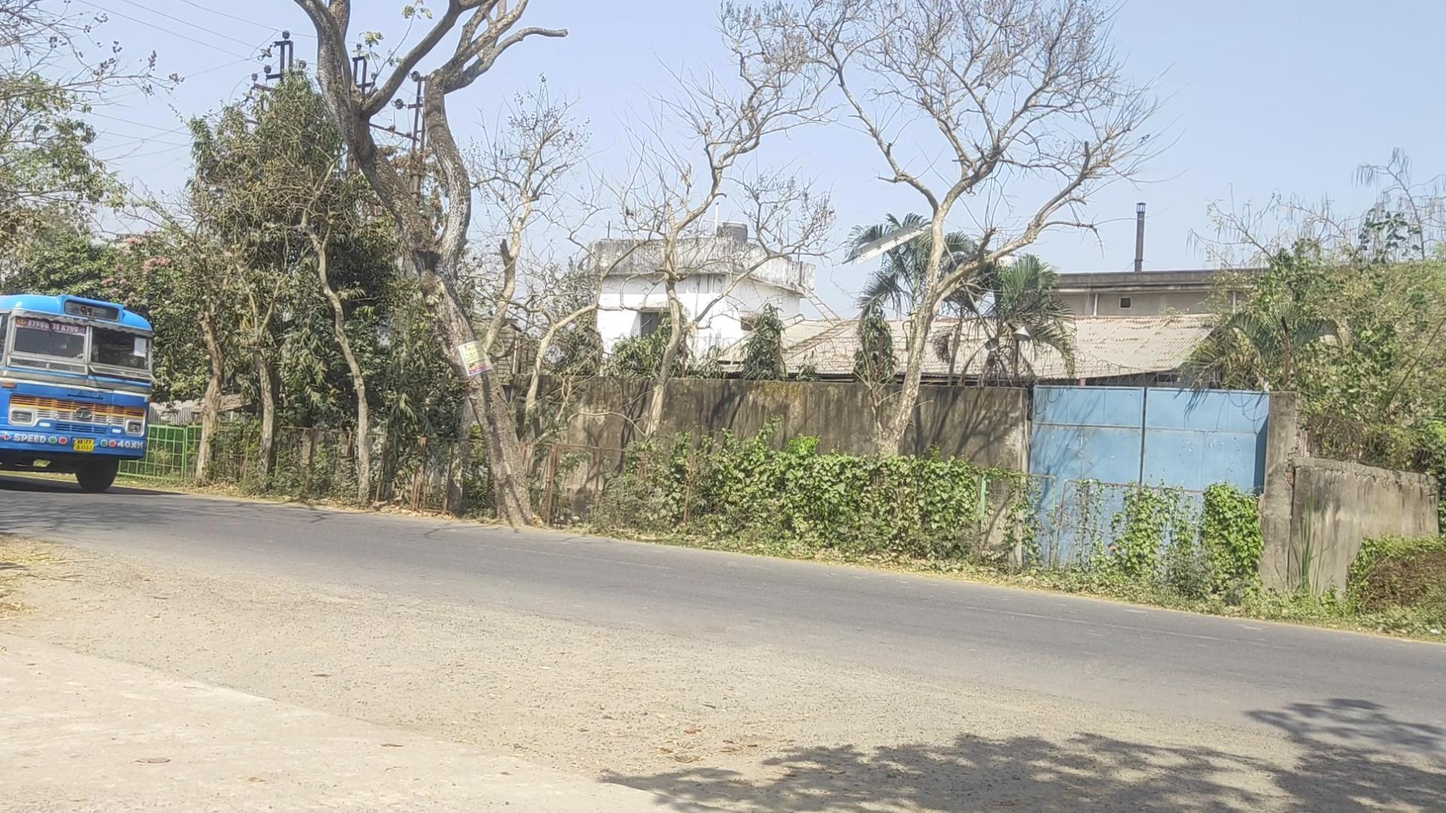Bus: (3, 294, 154, 495)
